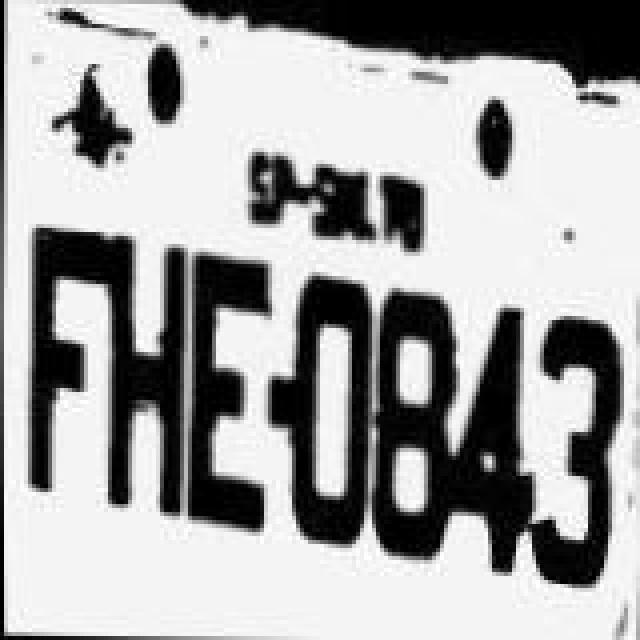3: (526, 288, 626, 592)
4: (448, 284, 536, 580)
8: (368, 272, 456, 568)
E: (184, 242, 272, 542)
F: (20, 222, 112, 514)
H: (100, 222, 188, 538)
O: (294, 262, 378, 558)
